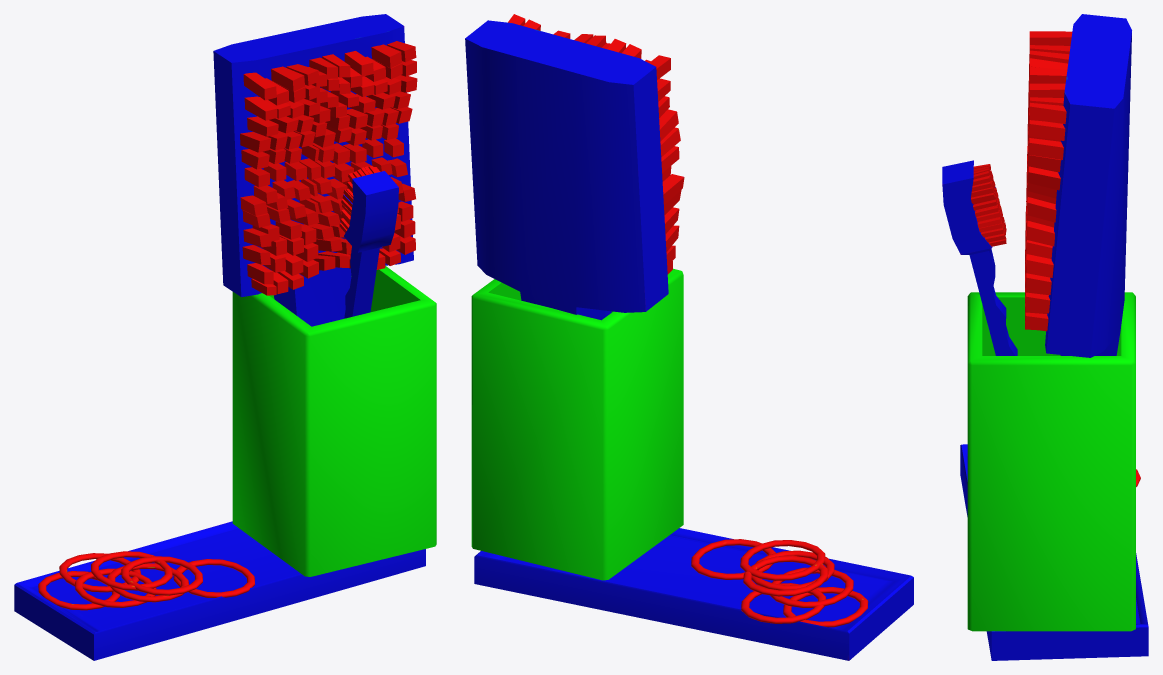
The model's file is STFtooth_brush.glb.
The picture shows the model from 3 angles, left to right: view 1: azimuth 30°, elevation 25°; view 2: azimuth 150°, elevation 25°; view 3: azimuth 270°, elevation 25°; orthographic projection. The views are drawn at different scales.
Parts seen in each view (by area): view 1: STFtooth_brush; view 2: STFtooth_brush; view 3: STFtooth_brush.
Boxes of the visible parts, x1,y1,x2,y2 form: STFtooth_brush: (14,14,436,660); STFtooth_brush: (465,14,913,660); STFtooth_brush: (942,14,1148,660).
Bounding box in the file's own units: 0.6174 × 0.8138 × 0.2694.
Materials: 1 (1 with a texture image).
